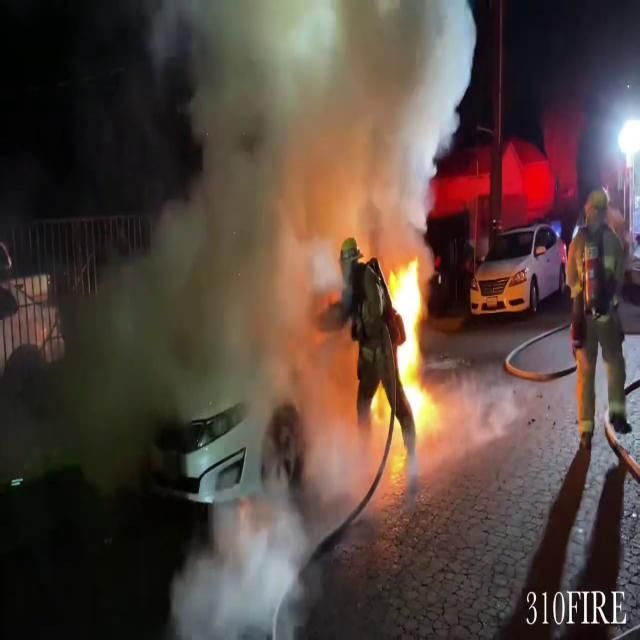Fire: (386, 249, 434, 442)
Smoke: (96, 0, 485, 446), (162, 462, 316, 640)
